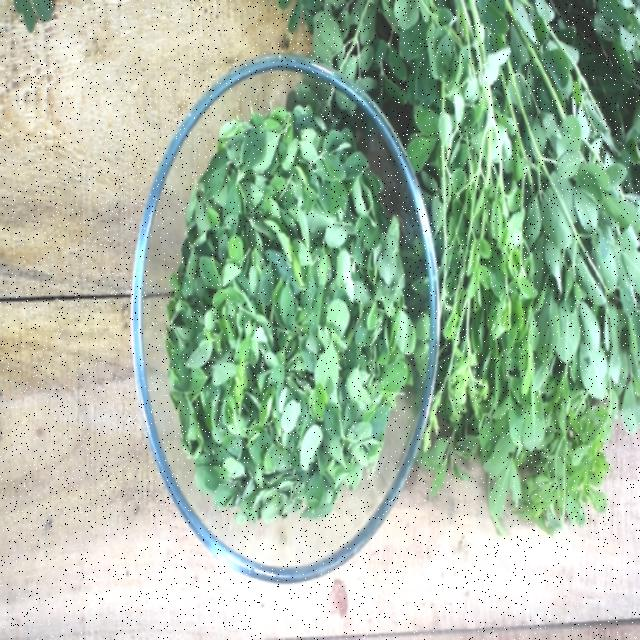Moringa Leaves: (430, 25, 640, 449), (223, 140, 374, 453)
